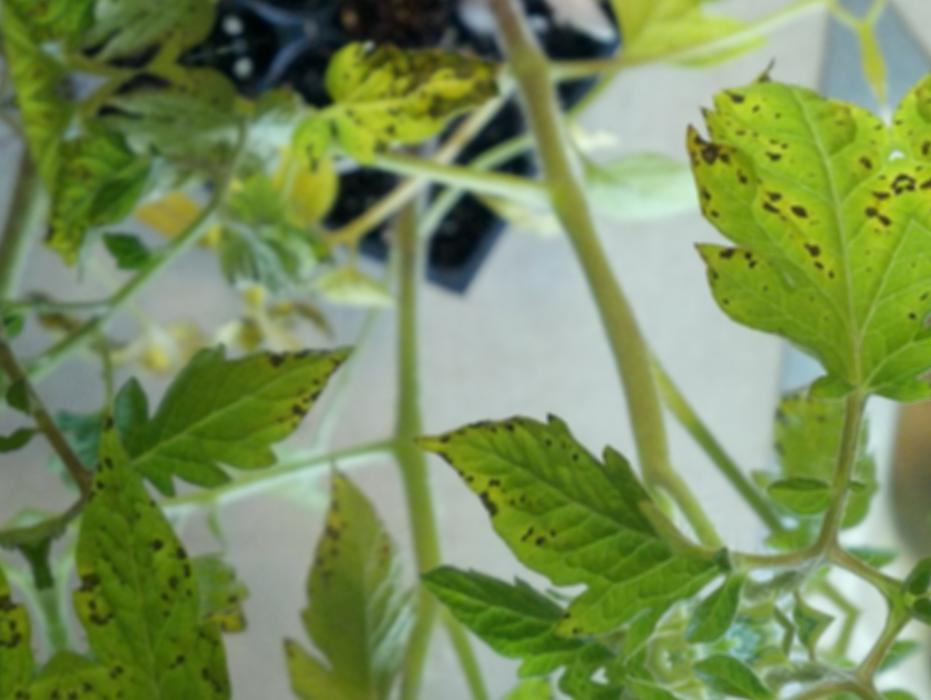Tomato Septoria leaf spot: (636, 1, 931, 424), (388, 359, 760, 690), (2, 372, 278, 700), (53, 282, 392, 521), (290, 0, 532, 189)
